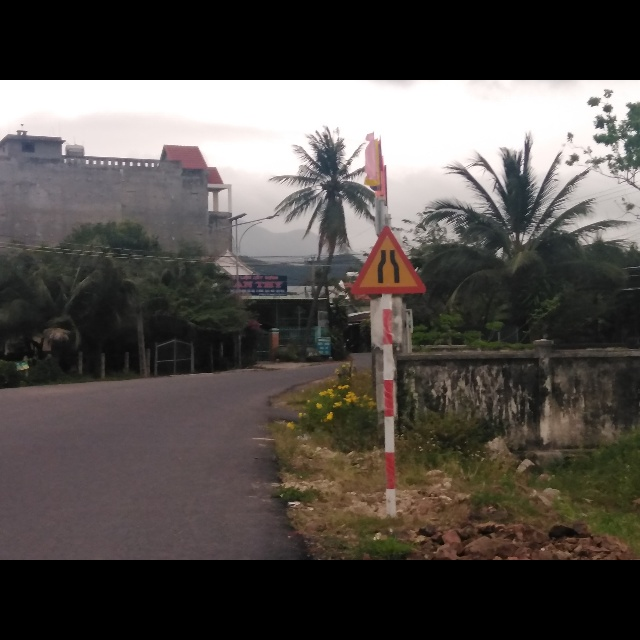Đường bị hẹp cả hai bên: (347, 226, 428, 294)
